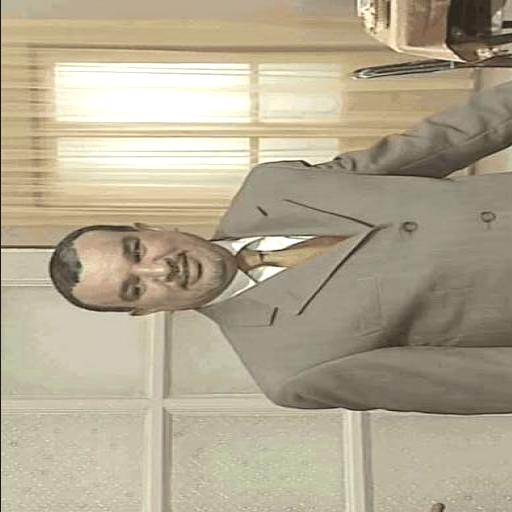slimane: (49, 223, 235, 315)
